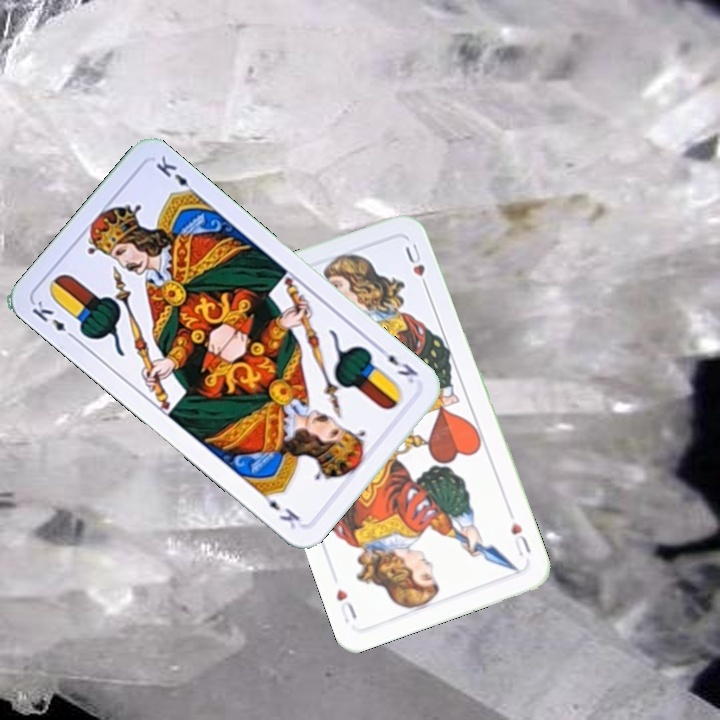EK: (28, 296, 79, 343), (373, 342, 421, 387)
HU: (507, 518, 534, 560)
